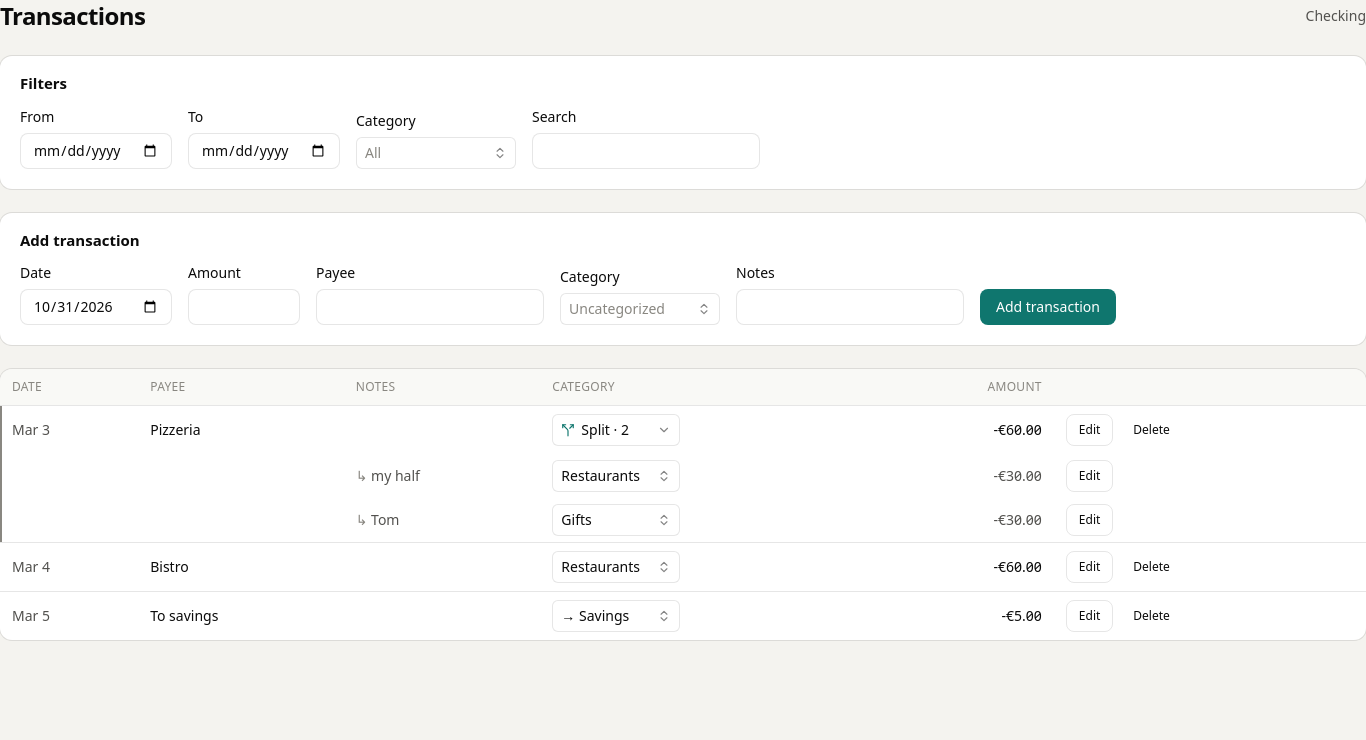
Test: the split editor › stops following once the first line is edited, and shows what's left or over
The image size is (1366, 740).
Click the button "Restaurants" in the row of "Mar 4": (616, 566) top-left (552, 550), bottom-right (680, 582)
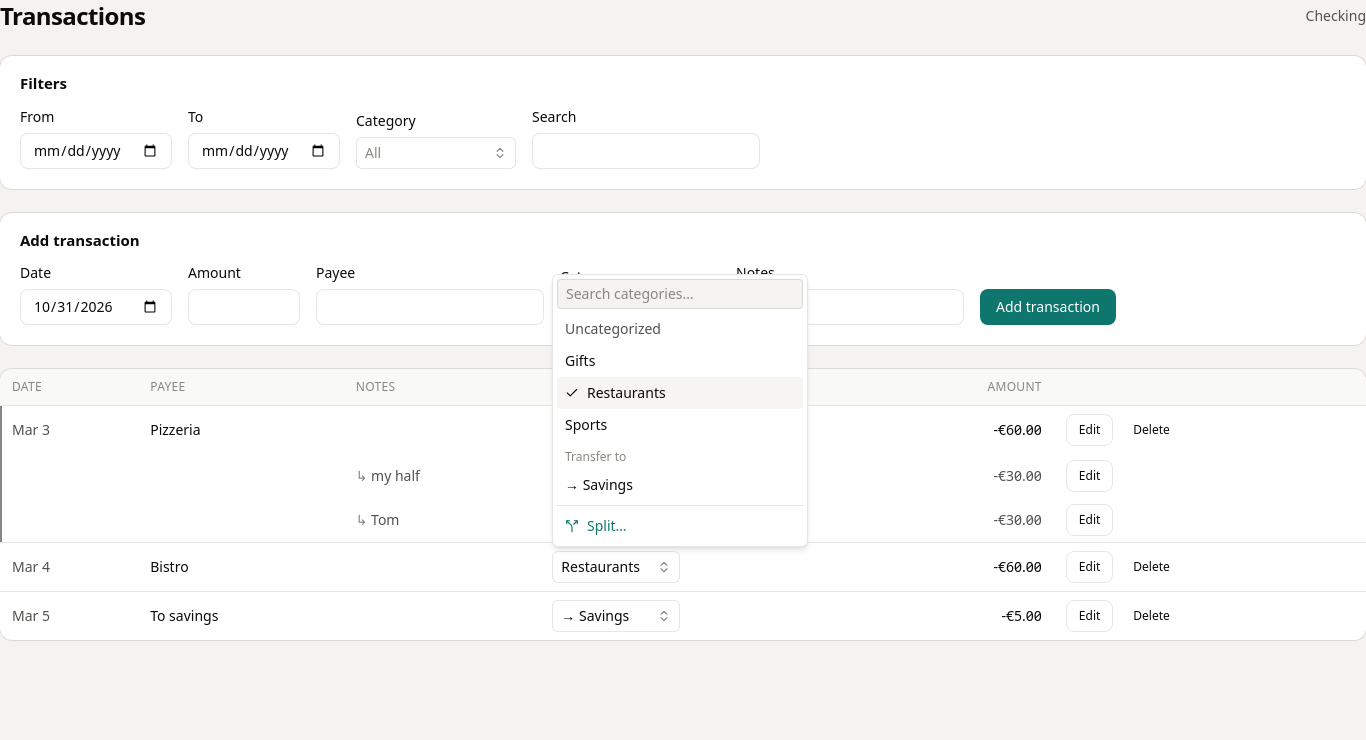
Type keys "sp{Enter}"
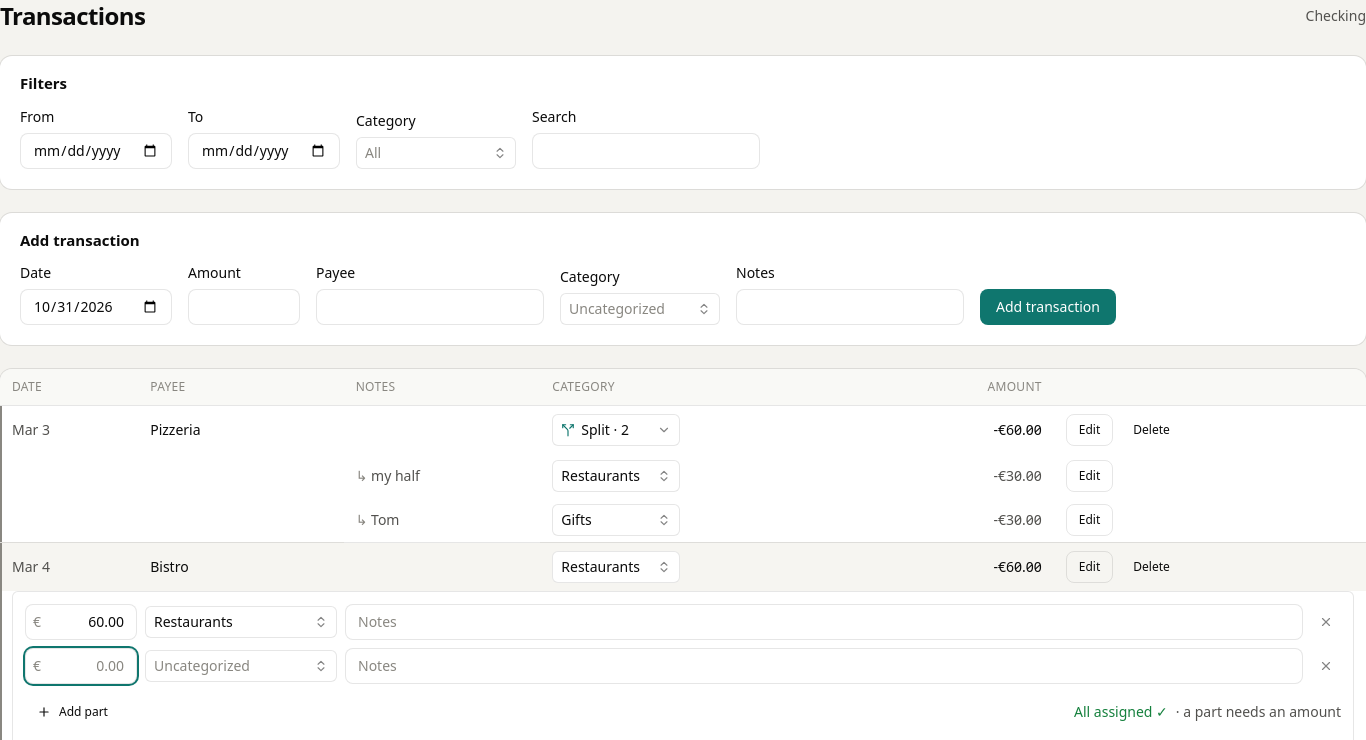
Replace the text in the field named "Part 1 amount" with "20": (81, 622) top-left (25, 604), bottom-right (137, 640)
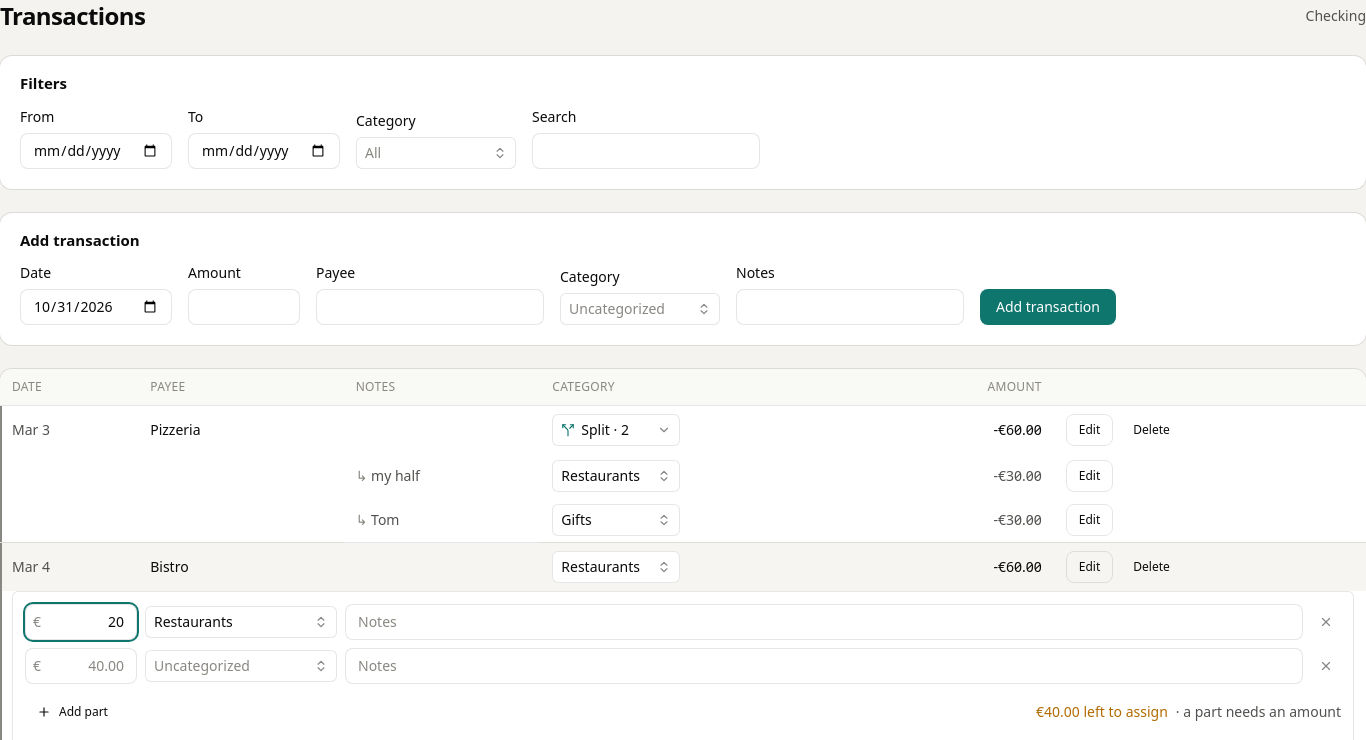
In the field with placeholder "40.00": (81, 666) top-left (25, 648), bottom-right (137, 684), type "30"
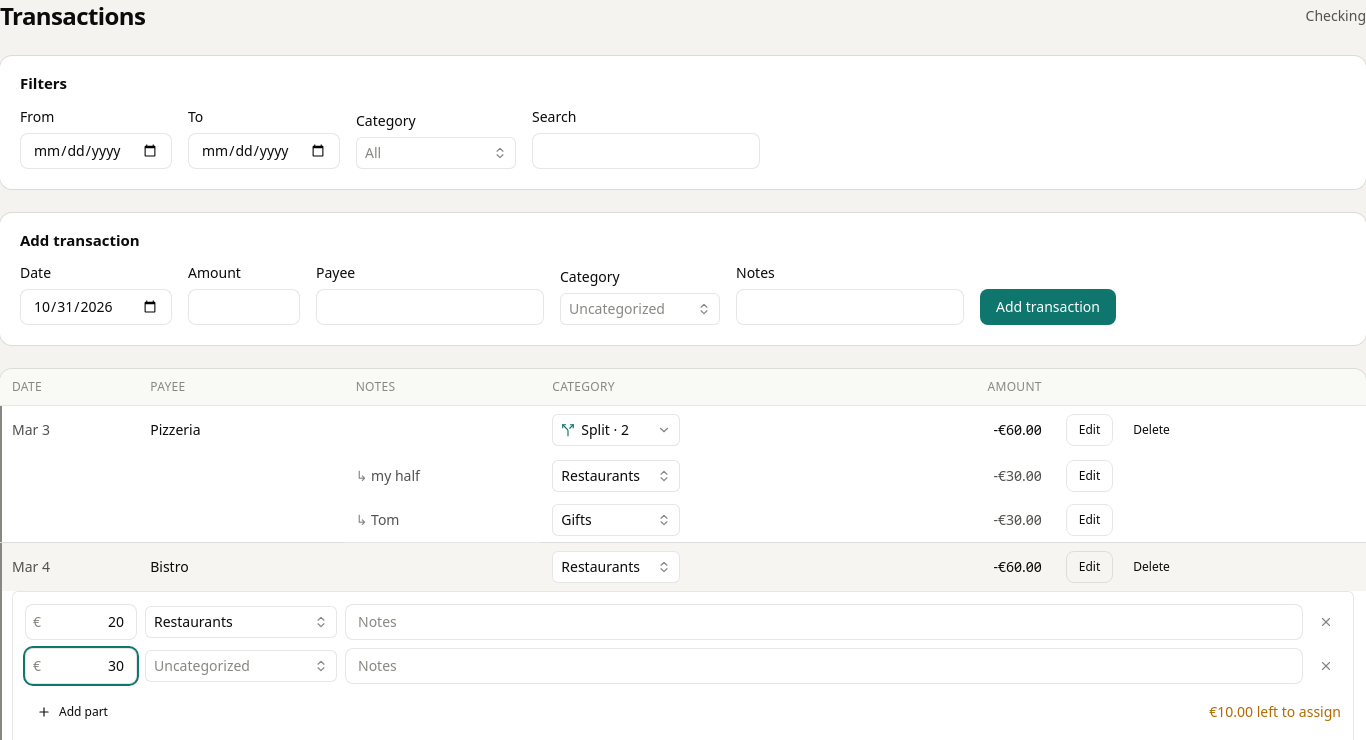
Now the message shows "10.00 left to assign", box top-left (1209, 702), bottom-right (1341, 720)
Replace the text in the field named "Part 2 amount" with "45": (81, 666) top-left (25, 648), bottom-right (137, 684)
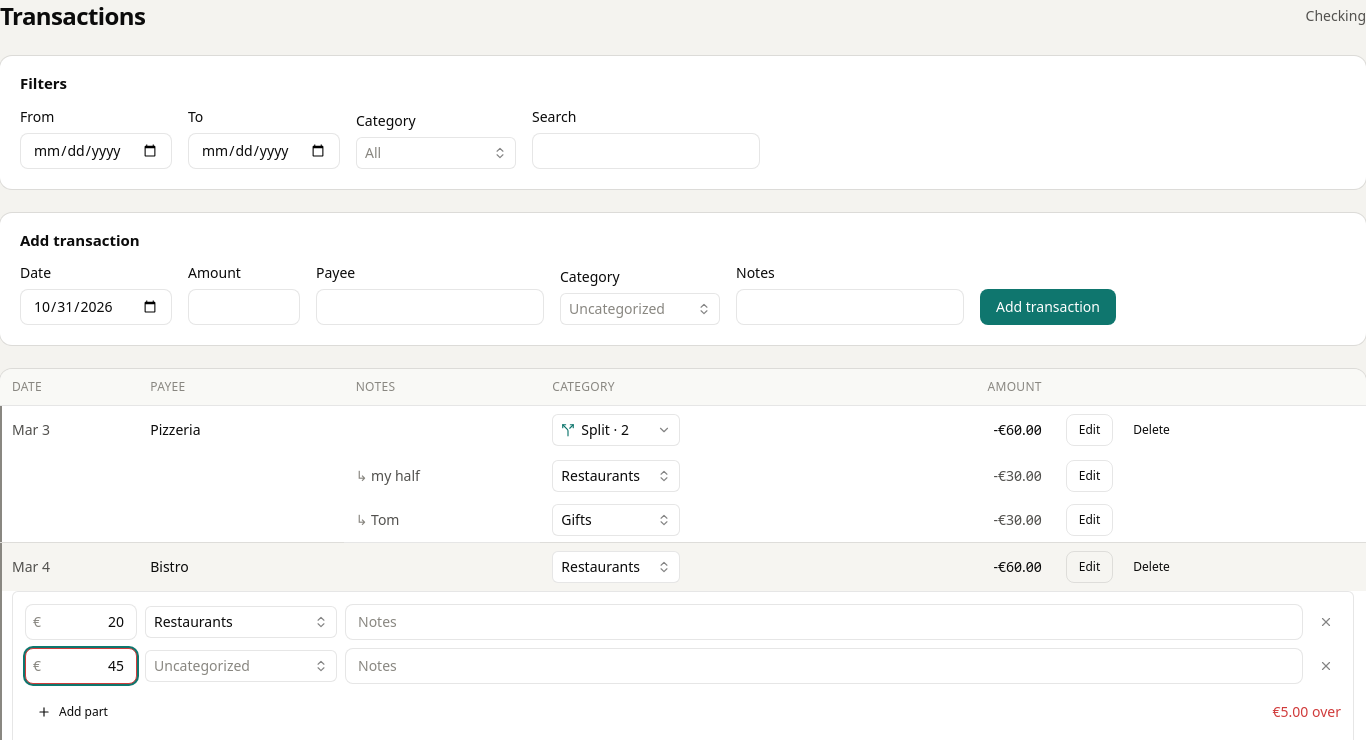
Now the message shows "5.00 over", box top-left (1273, 702), bottom-right (1341, 720)
